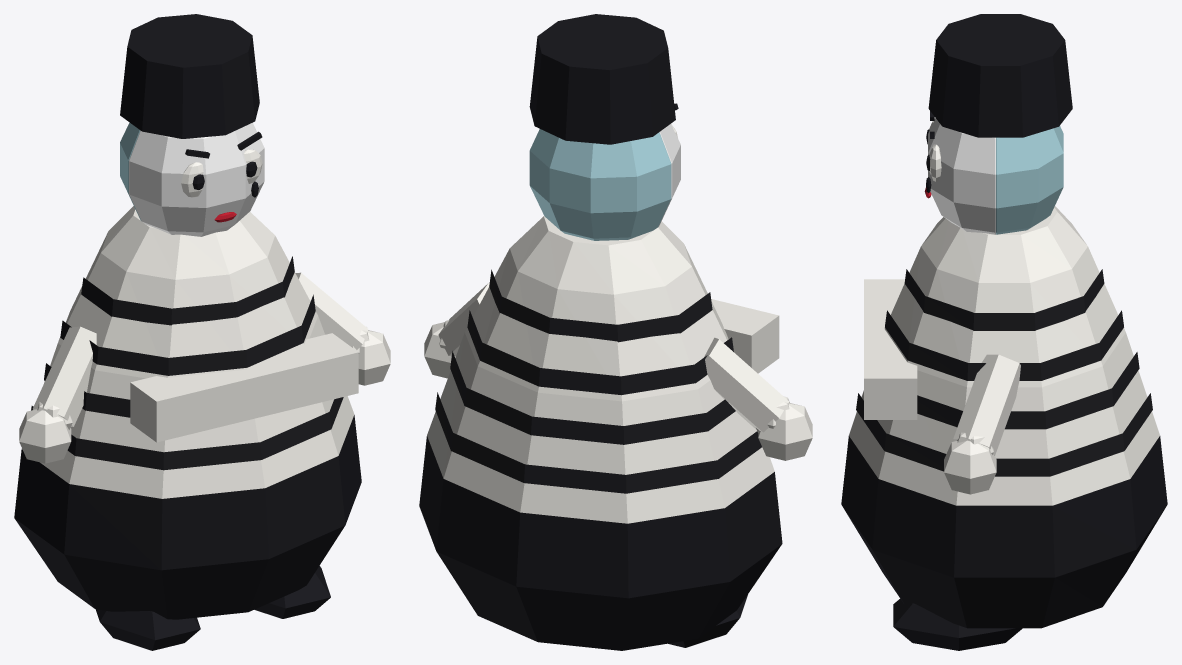
Rendered from npc_mimo_portero.glb.
The picture shows the model from 3 angles, left to right: view 1: azimuth 30°, elevation 25°; view 2: azimuth 150°, elevation 25°; view 3: azimuth 270°, elevation 25°; orthographic projection. The views are drawn at different scales.
Parts seen in each view (by area): view 1: body_white, body_black, cap_black, body_mime_stripe_black, head_mime_white, arms_white, legs_black, face_white, face_black, head_skin_celeste; view 2: body_white, body_black, body_mime_stripe_black, cap_black, head_skin_celeste, arms_white, head_mime_white, legs_black; view 3: body_white, body_black, body_mime_stripe_black, cap_black, arms_white, head_skin_celeste, head_mime_white, legs_black.
Boxes of the visible parts, <box> form: body_white: <box>21,206,358,498</box>; body_black: <box>14,415,361,619</box>; cap_black: <box>120,14,259,138</box>; body_mime_stripe_black: <box>31,256,343,470</box>; head_mime_white: <box>129,122,264,236</box>; arms_white: <box>19,272,390,463</box>; legs_black: <box>95,566,330,650</box>; face_white: <box>181,149,262,197</box>; face_black: <box>185,131,262,197</box>; head_skin_celeste: <box>120,122,141,220</box>; body_white: <box>427,216,779,523</box>; body_black: <box>419,436,782,650</box>; body_mime_stripe_black: <box>435,269,761,493</box>; cap_black: <box>529,14,675,144</box>; head_skin_celeste: <box>529,129,671,240</box>; arms_white: <box>424,283,812,460</box>; head_mime_white: <box>658,124,680,226</box>; legs_black: <box>668,594,747,647</box>; body_white: <box>849,206,1159,505</box>; body_black: <box>841,436,1167,628</box>; body_mime_stripe_black: <box>856,269,1152,476</box>; cap_black: <box>928,14,1072,137</box>; arms_white: <box>944,354,1020,494</box>; head_skin_celeste: <box>996,126,1063,234</box>; head_mime_white: <box>928,118,995,234</box>; legs_black: <box>893,598,1022,650</box>.
Bounding box in the file's own units: 1.14 × 1.66 × 0.86.
